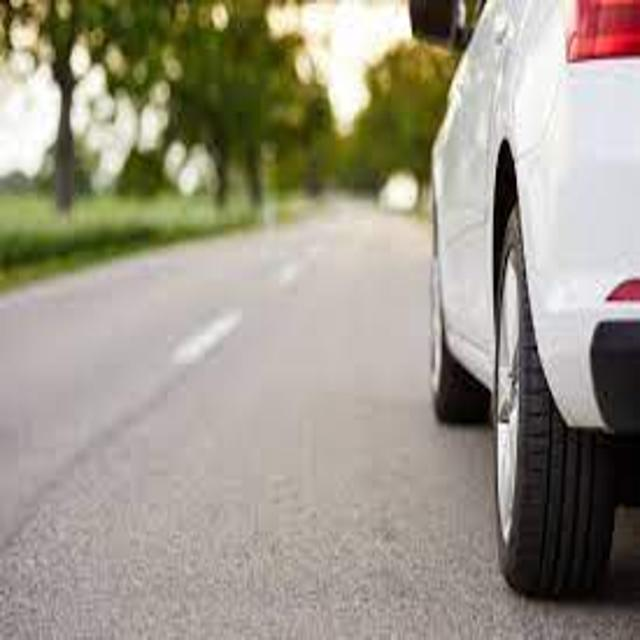car: (408, 1, 640, 598)
